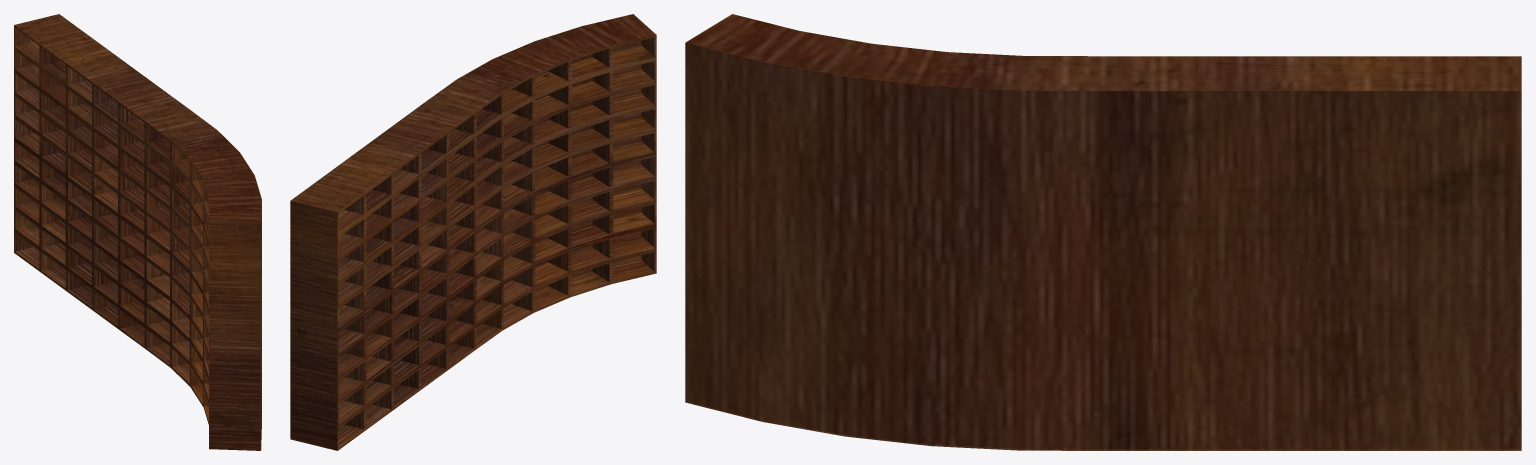
Rendered from bowl_shoes.glb.
3 views of the same model, side by side, from view 1: azimuth 30°, elevation 25°; view 2: azimuth 150°, elevation 25°; view 3: azimuth 270°, elevation 25° (orthographic). The views are drawn at different scales.
Visible parts, largest first — view 1: bowl_shoes; view 2: bowl_shoes; view 3: bowl_shoes.
Boxes of the visible parts, x1,y1,x2,y2 form: bowl_shoes: (14,14,261,450); bowl_shoes: (290,14,656,450); bowl_shoes: (685,14,1521,450).
Size of the model in its own units: 0.9731 by 2.12 by 4.46.
Materials: 1 (1 with a texture image).
